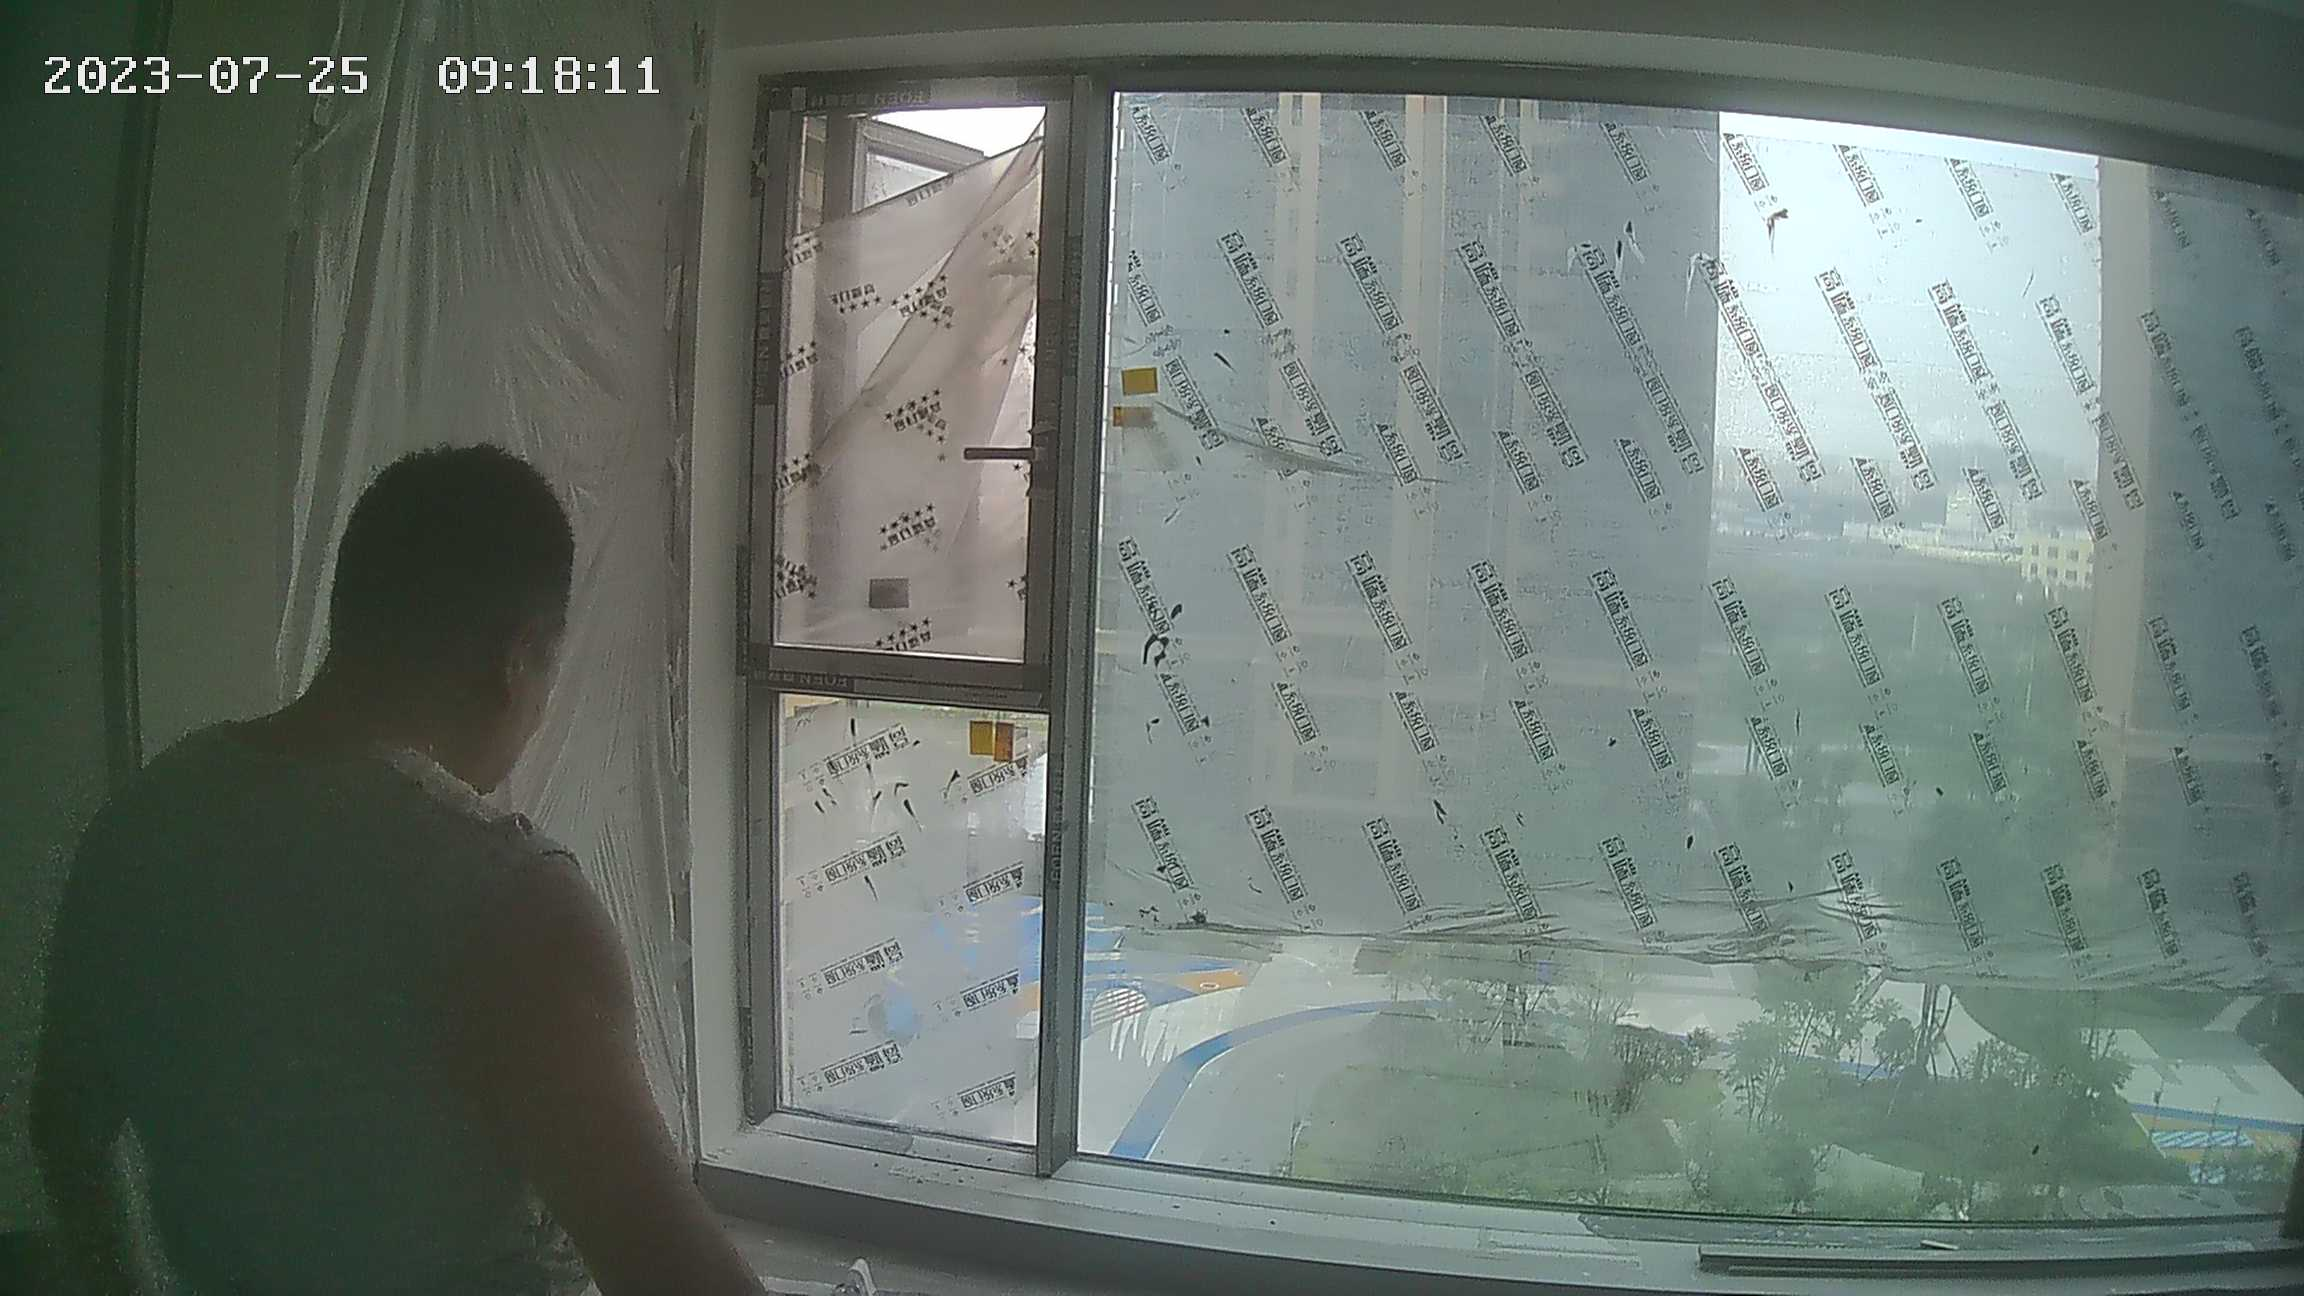people: (22, 439, 768, 1296)
window: (743, 77, 2304, 1260)
